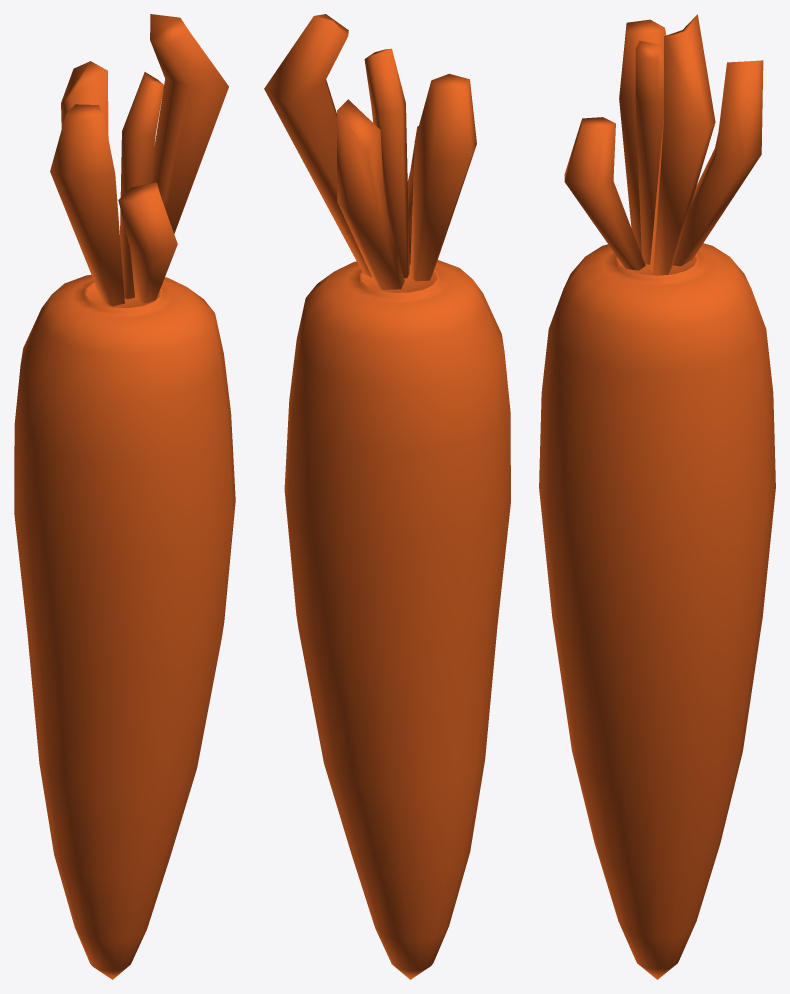
File: Carota.fbx
The picture shows the model from 3 angles, left to right: view 1: azimuth 30°, elevation 25°; view 2: azimuth 150°, elevation 25°; view 3: azimuth 270°, elevation 25°; orthographic projection. The views are drawn at different scales.
Visible parts, largest first — view 1: Carota.001; view 2: Carota.001; view 3: Carota.001.
Part boxes in pixels (x1,y1,x2,y2): Carota.001: (14, 14, 235, 979); Carota.001: (264, 14, 510, 979); Carota.001: (539, 14, 775, 979).
Bounding box in the file's own units: 209 × 920 × 198.
